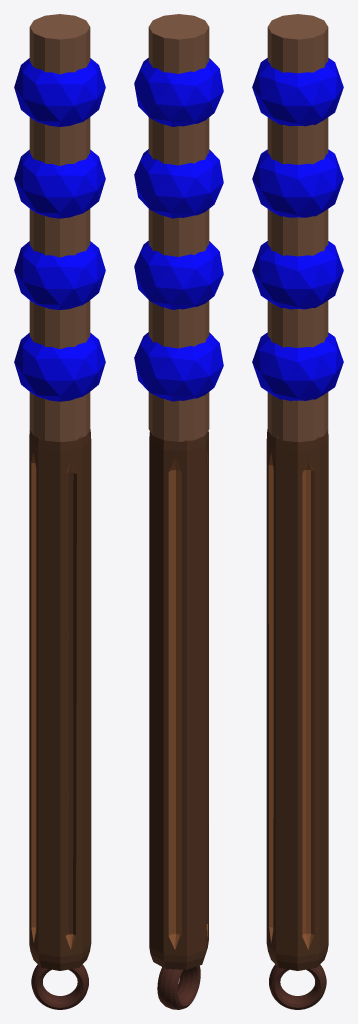
Rendered from Wand 531.glb.
3 views of the same model, side by side, from view 1: azimuth 90°, elevation 25°; view 2: azimuth 150°, elevation 25°; view 3: azimuth 270°, elevation 25° (orthographic).
Visible parts, largest first — view 1: GeneratedWand; view 2: GeneratedWand; view 3: GeneratedWand.
Boxes of the visible parts, bbox=[...] form: GeneratedWand: bbox=[14, 14, 105, 1009]; GeneratedWand: bbox=[134, 14, 223, 1009]; GeneratedWand: bbox=[252, 14, 343, 1009].
Bounding box in the file's own units: 0.0407 × 0.5057 × 0.0428.
